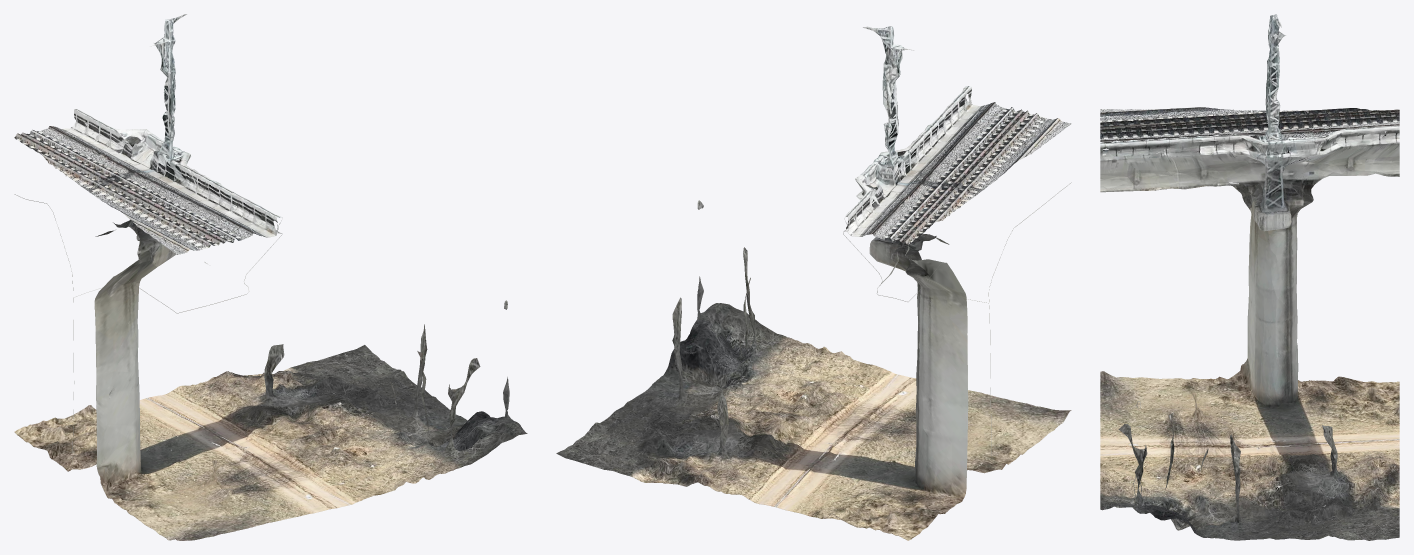
File: Block_L21_681.glb
3 renders of one model, left to right at view 1: azimuth 30°, elevation 25°; view 2: azimuth 150°, elevation 25°; view 3: azimuth 270°, elevation 25°, orthographic. The views are drawn at different scales.
Visible parts, largest first — view 1: rtc; view 2: rtc; view 3: rtc.
Part boxes in pixels (x1,y1,x2,y2): rtc: (14,14,527,540); rtc: (556,26,1071,540); rtc: (1100,14,1399,540).
Size of the model in its own units: 21.92 by 27.02 by 17.65.
Materials: 6 (6 with a texture image).
